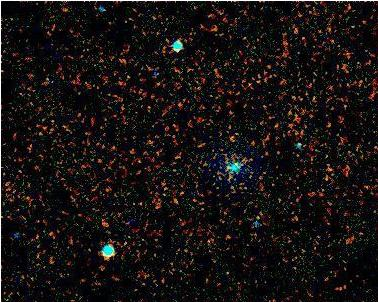star: (45, 0, 75, 24)
